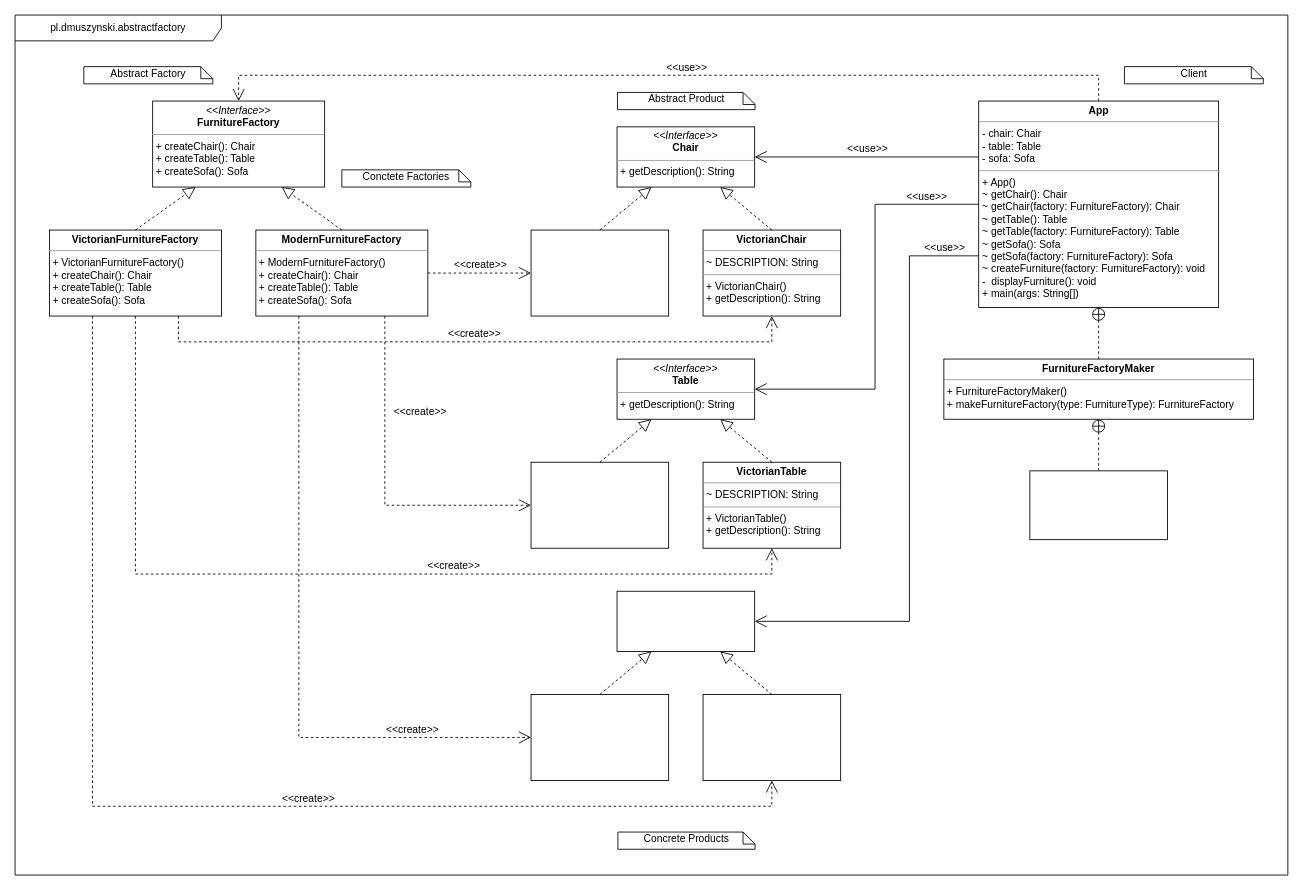
This 1303x890 diagram has some shape labels left out. The centre of each missing label's shape, as x and y in pixels:
<<Enumeration>> FurnitureType VICTORIAN MODERN: (1098,505)
<<Interface>> Sofa + getDescription(): String: (685,620)
ModernChair ~ DESCRIPTION: String + ModernChair() + getDescription(): String: (599,272)
ModernSofa ~ DESCRIPTION: String + ModernSofa() + getDescription(): String: (599,737)
ModernTable ~ DESCRIPTION: String + ModernTable() + getDescription(): String: (599,504)
VictorianSofa ~ DESCRIPTION: String + VictorianSofa() + getDescription(): String: (771,737)
